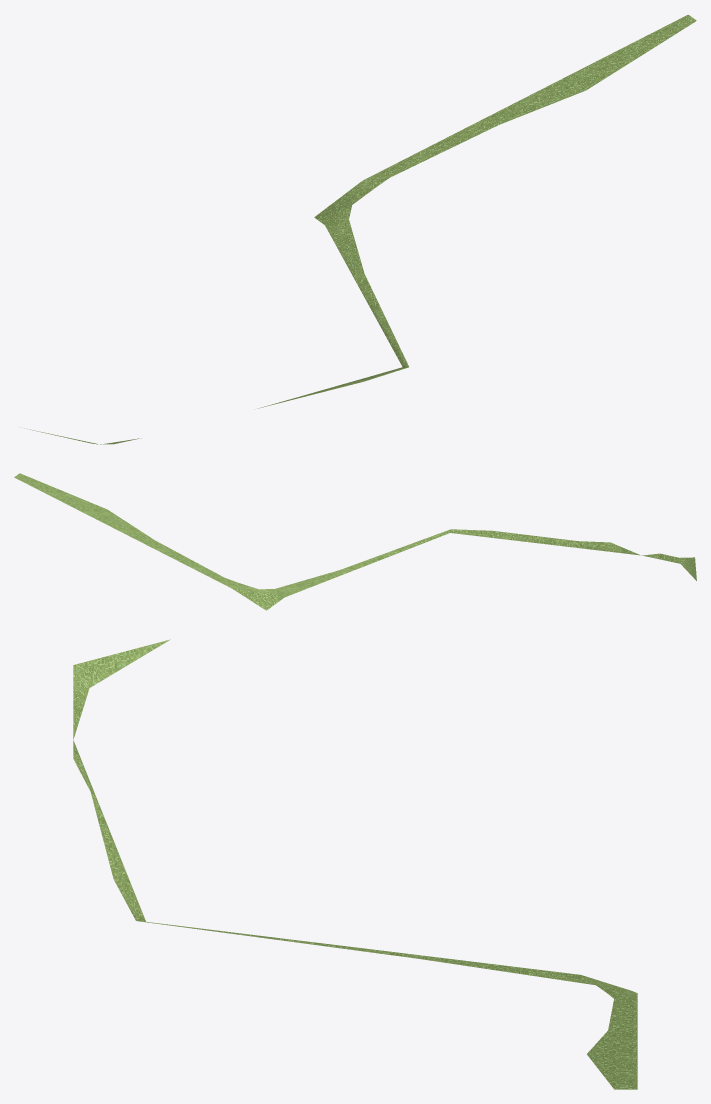
File: kd_stage_135fe0_0_20_bounded.glb
3 views of the same model, one above another, from view 1: azimuth 30°, elevation 25°; view 2: azimuth 150°, elevation 25°; view 3: azimuth 270°, elevation 25° (orthographic). The views are drawn at different scales.
Visible parts, largest first — view 1: kd_stage_135fe0_0_20_bounded; view 2: kd_stage_135fe0_0_20_bounded; view 3: kd_stage_135fe0_0_20_bounded.
Part boxes in pixels (x1,y1,x2,y2): kd_stage_135fe0_0_20_bounded: (21,14,696,444); kd_stage_135fe0_0_20_bounded: (14,473,696,610); kd_stage_135fe0_0_20_bounded: (73,639,637,1089).
Bounding box in the file's own units: 62.55 × 7.72 × 26.97.
1 material, 1 textured.
